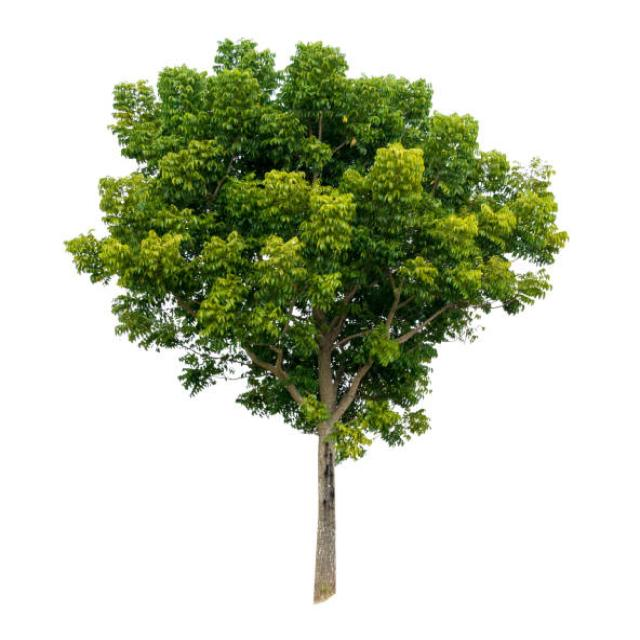Neem-Tree: (67, 41, 566, 602)
